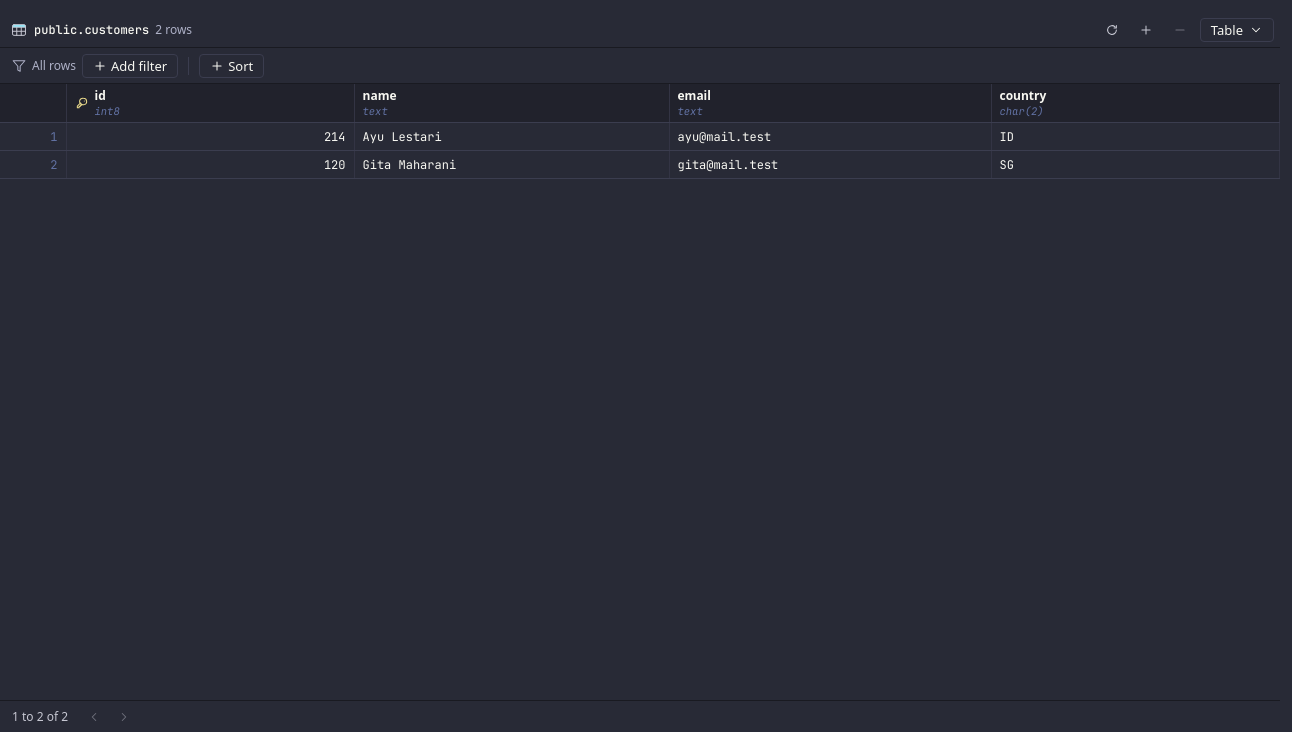
Test case: counts_time_out_on_a_slow_connection_and_are_skipped_on_a_closed_one
Expected: the row "1 214 Ayu Lestari ayu@mail.test ID" is shown, [0,122,1279,150]
Press the mouse on the cell "214" at (210,136), box [66,122,354,150]
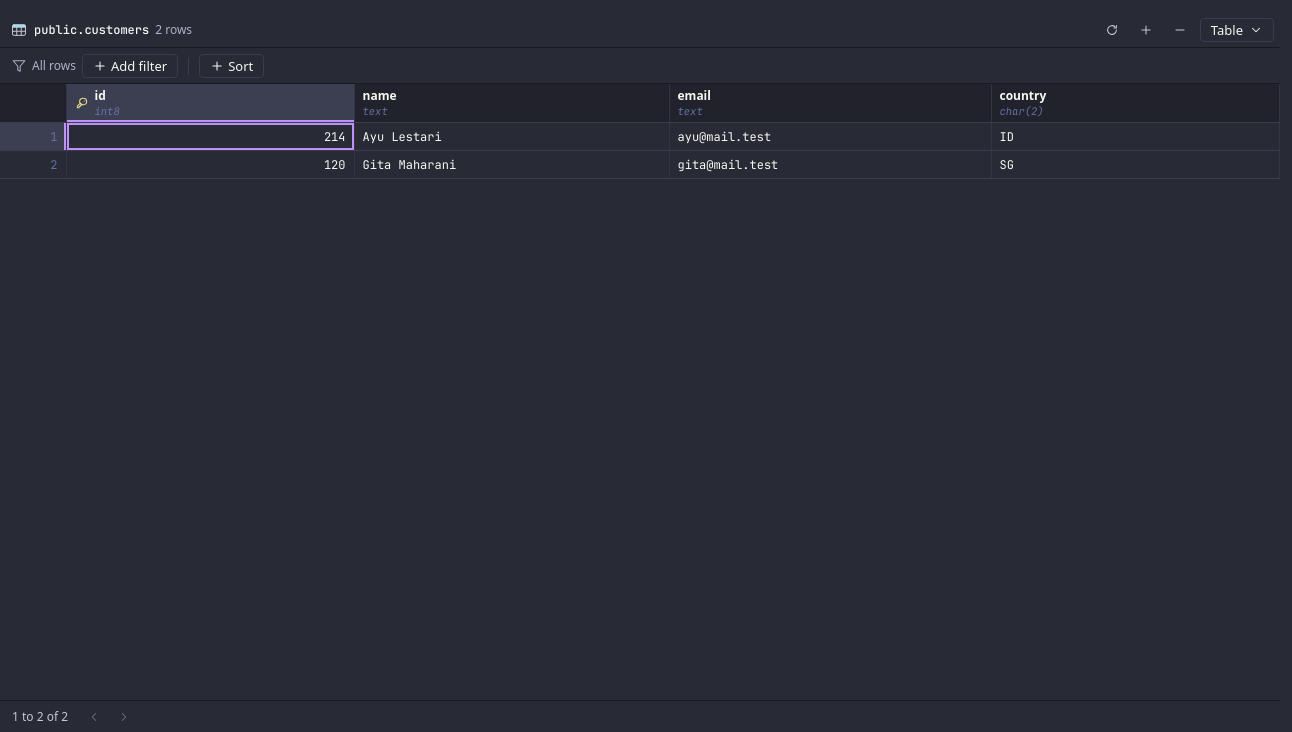
Press F7 in the element with class "grid-scroll", box [0,84,1279,178]
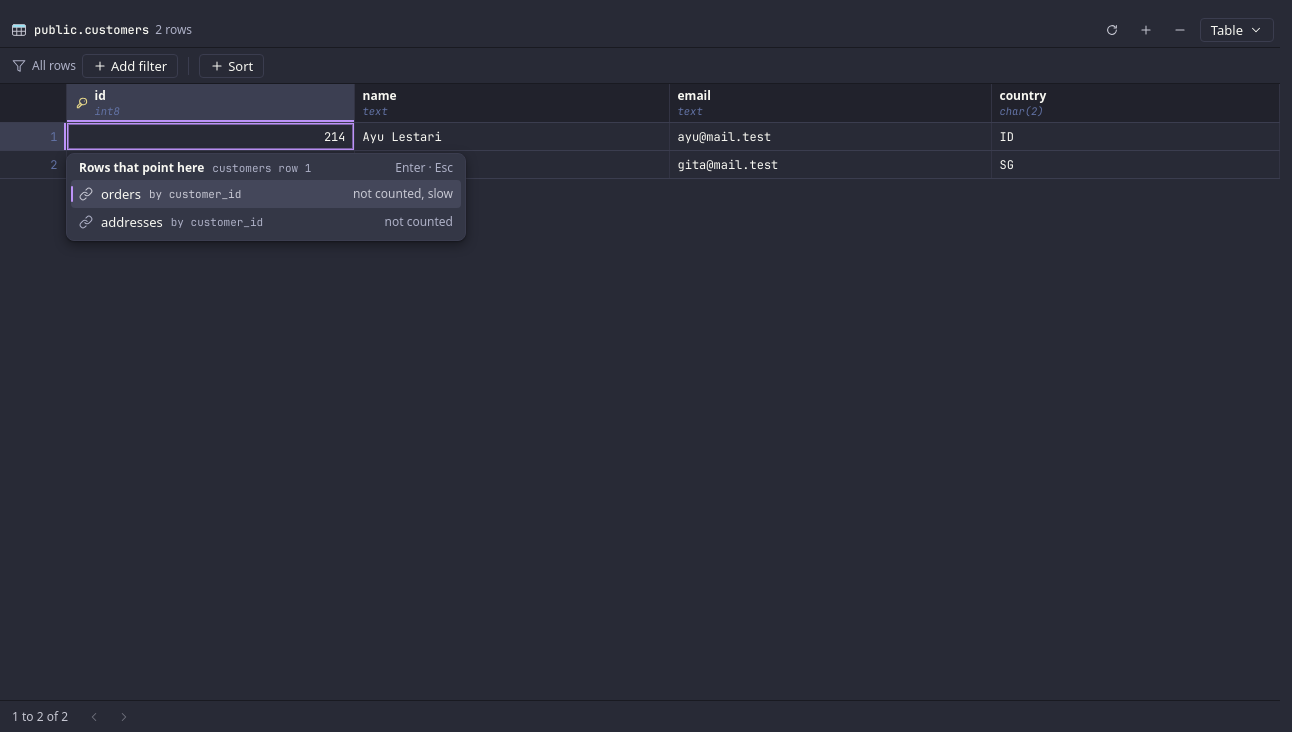
Expected: the option "orders by customer_id not counted, slow" is shown, [71,180,461,208]
Expected: the option "addresses by customer_id not counted" is shown, [71,208,461,236]
